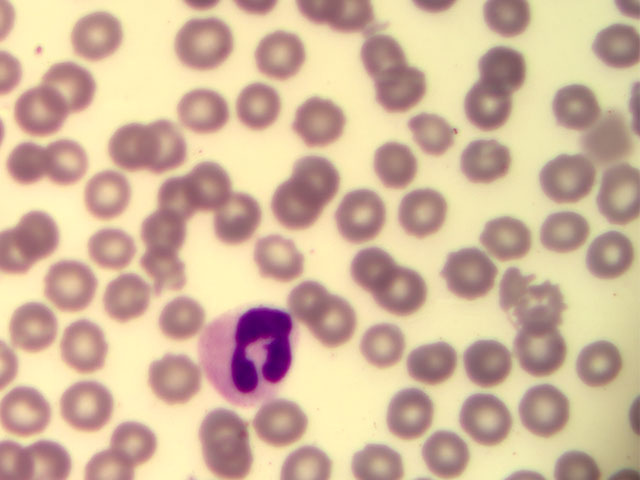Platelets: (31, 40, 49, 59)
RBC: (17, 435, 74, 480), (73, 10, 123, 58), (53, 59, 103, 107), (19, 82, 69, 130), (30, 138, 80, 186), (85, 171, 135, 219), (133, 121, 183, 169), (86, 220, 136, 268), (48, 261, 98, 309), (19, 221, 69, 269), (16, 300, 66, 348), (60, 314, 110, 362), (105, 271, 155, 319), (135, 246, 185, 294), (134, 209, 184, 257), (155, 184, 205, 232), (184, 163, 234, 211), (214, 193, 264, 241), (255, 234, 305, 282), (280, 276, 330, 324), (317, 300, 367, 348), (390, 267, 440, 315), (352, 246, 402, 294), (339, 184, 389, 232), (275, 184, 325, 232), (291, 152, 341, 200), (294, 96, 344, 144), (235, 83, 285, 131), (173, 89, 223, 137), (256, 30, 306, 78), (181, 21, 231, 69), (359, 27, 409, 75), (381, 64, 431, 112), (407, 109, 457, 157), (375, 139, 425, 187), (404, 185, 454, 233), (461, 141, 511, 189), (465, 86, 515, 134), (475, 42, 525, 90), (537, 78, 587, 126), (547, 156, 597, 204), (585, 167, 635, 215), (587, 223, 637, 271), (544, 205, 594, 253), (479, 213, 529, 261), (451, 250, 501, 298), (489, 266, 539, 314), (515, 303, 565, 351), (586, 342, 636, 390), (515, 378, 565, 426), (470, 395, 520, 443), (425, 426, 475, 474), (391, 390, 441, 438), (416, 341, 466, 389), (462, 335, 512, 383), (357, 432, 407, 480), (281, 432, 331, 480), (264, 398, 314, 446), (214, 432, 264, 480), (193, 409, 243, 457), (159, 352, 209, 400), (158, 285, 208, 333), (116, 415, 166, 463), (60, 382, 110, 430), (3, 385, 53, 433), (1, 130, 50, 178), (103, 123, 144, 166)
WBC: (198, 307, 298, 408)
